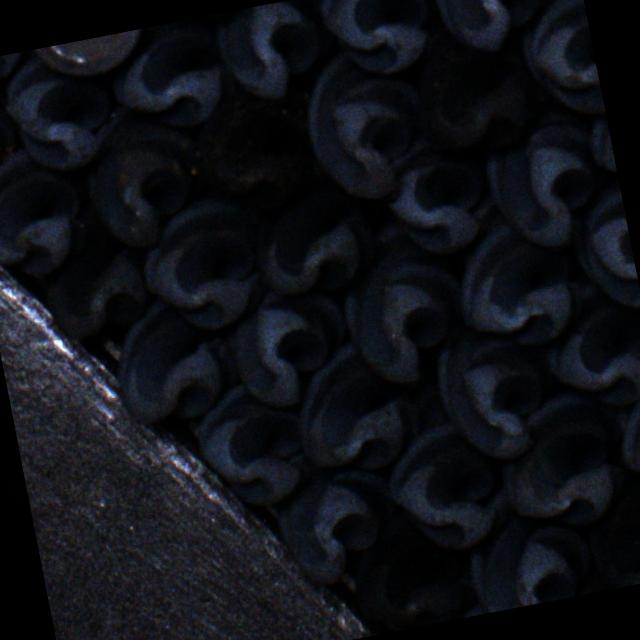tool_b: (328, 210, 474, 394), (281, 328, 448, 482), (440, 180, 582, 358), (294, 39, 437, 205), (130, 185, 285, 338), (488, 380, 634, 540), (476, 99, 613, 255), (103, 286, 248, 432), (427, 307, 557, 466), (378, 410, 515, 560), (186, 81, 326, 220), (76, 115, 210, 258), (222, 276, 358, 414), (242, 176, 388, 304), (268, 460, 409, 592), (188, 372, 318, 514), (410, 32, 543, 167), (102, 13, 241, 138), (0, 43, 121, 181), (533, 268, 640, 417), (342, 519, 475, 638), (460, 504, 596, 616), (35, 218, 156, 342), (378, 137, 496, 260), (0, 139, 99, 285), (211, 0, 334, 108), (508, 0, 606, 126), (559, 168, 640, 320), (315, 0, 437, 85), (429, 0, 563, 62), (576, 473, 640, 592), (609, 370, 640, 510), (0, 77, 24, 191)
